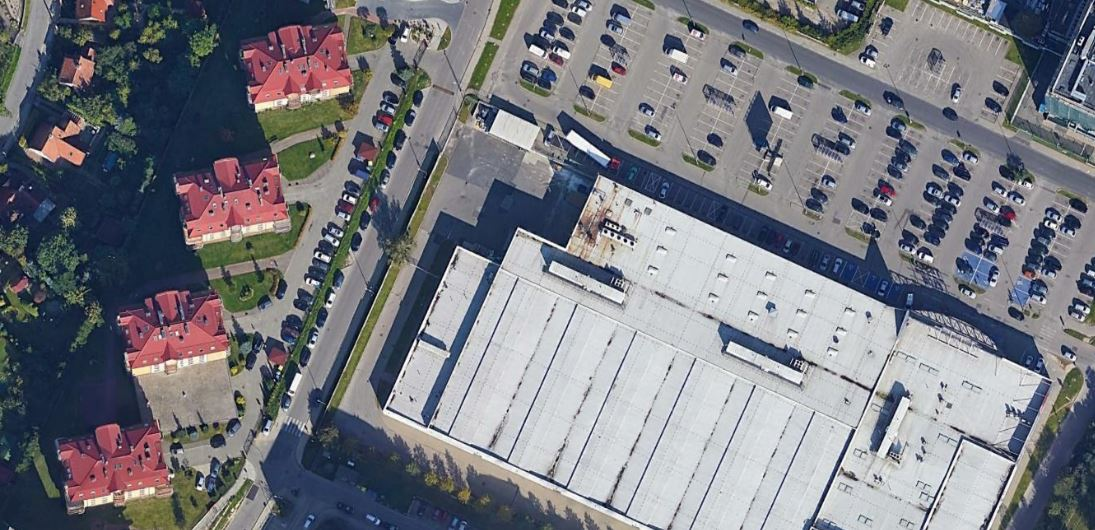block of flats: (167, 138, 295, 256), (110, 270, 241, 383), (50, 409, 180, 522), (237, 11, 365, 119)
family house: (17, 101, 104, 167), (50, 42, 113, 96), (57, 1, 129, 27)
shopping_center: (362, 149, 1062, 530)
